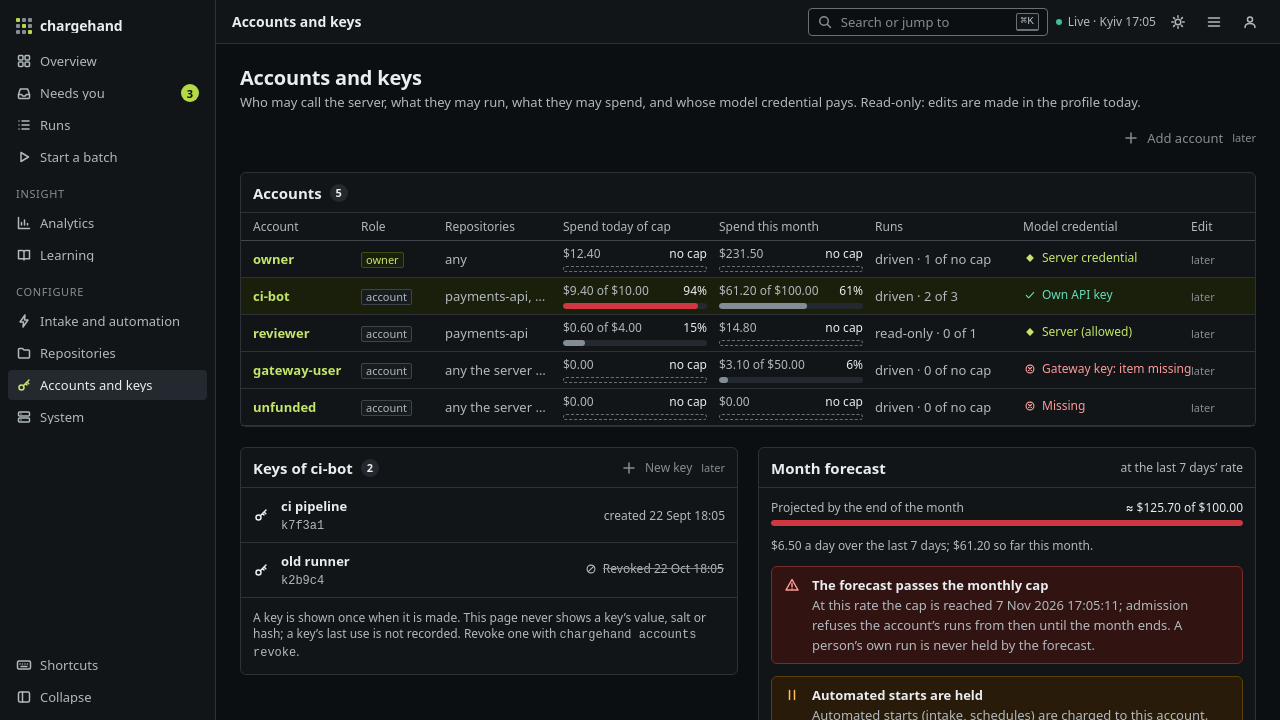
Test: Accounts with data › selects an account by clicking anywhere on its row
The width and height of the screenshot is (1280, 720).
Expected: the table named "Accounts" is shown, 241,213 -> 1255,426
Click the row that starts with "gateway-user" at {"x": 748, "y": 370}, box 241,352 -> 1255,389
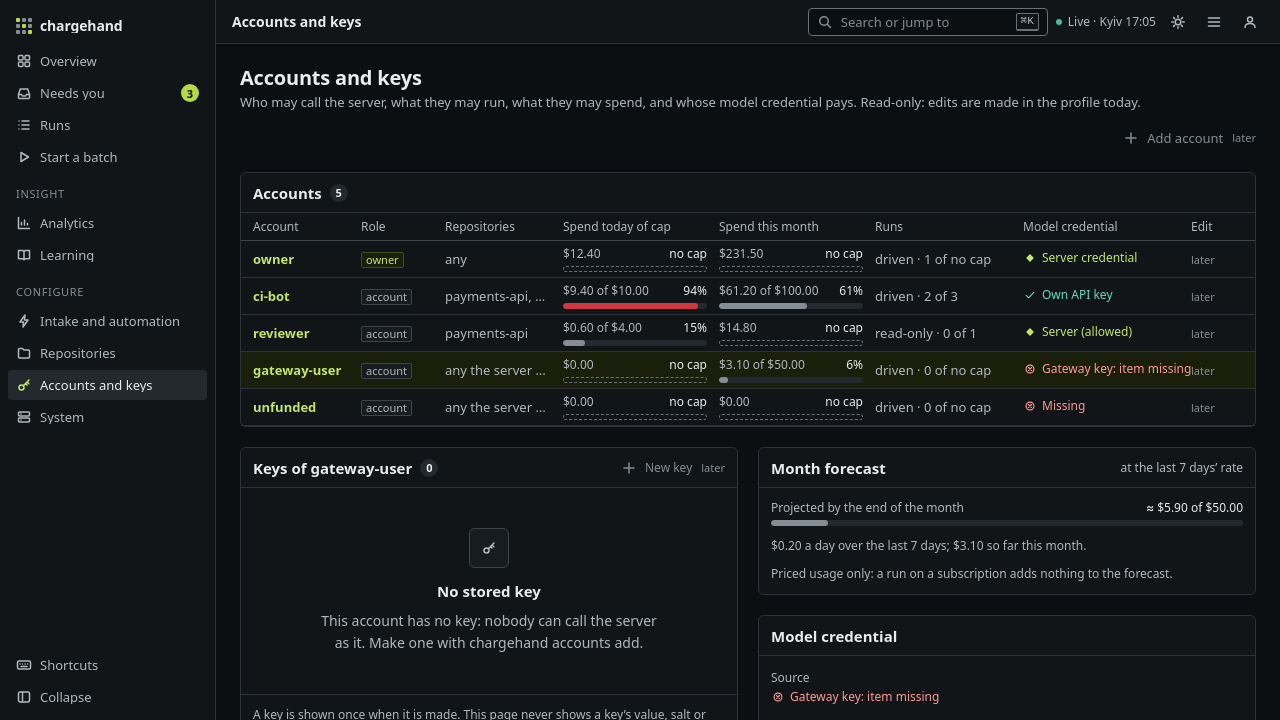
Expected: the heading "Keys of gateway-user" is shown, 253,456 -> 412,478
Expected: the heading "No stored key" is shown, 437,580 -> 541,602
